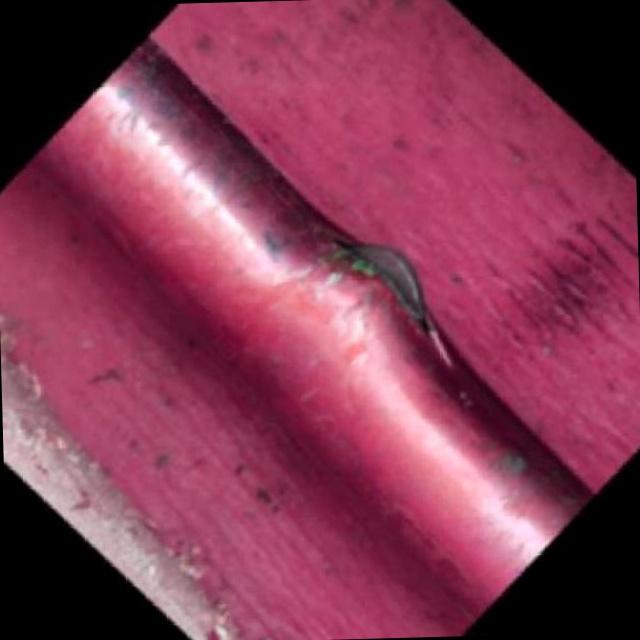Hole: (292, 230, 454, 340)
